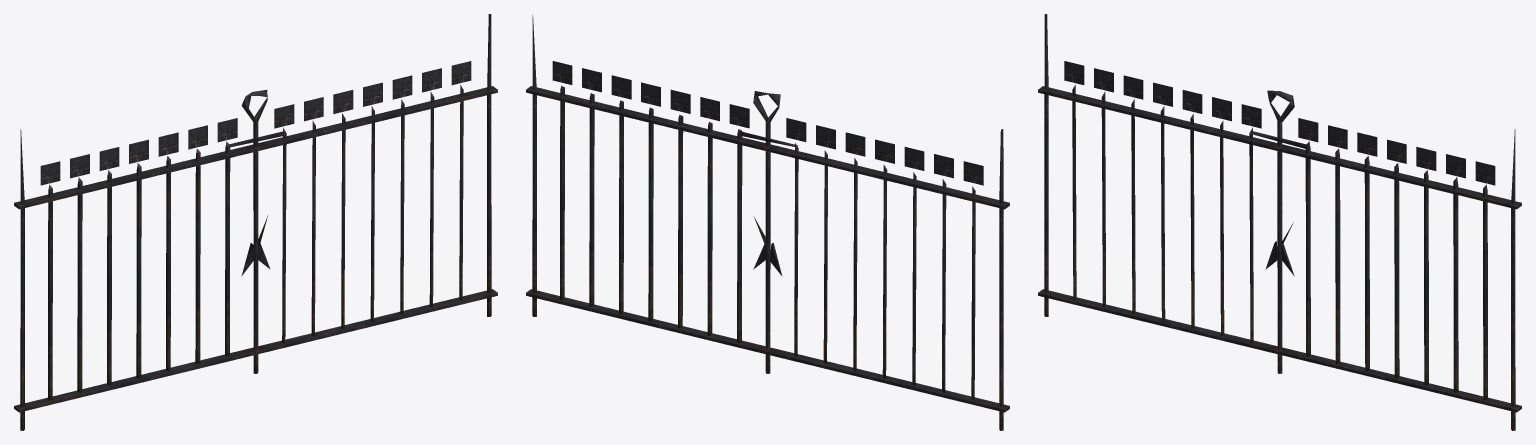
3 renders of one model, left to right at view 1: azimuth 30°, elevation 25°; view 2: azimuth 150°, elevation 25°; view 3: azimuth 330°, elevation 25°, orthographic.
Parts seen in each view (by area): view 1: LV_Navarra_Object_GardenDeco01_SM_NWCNIK_Lod1; view 2: LV_Navarra_Object_GardenDeco01_SM_NWCNIK_Lod1; view 3: LV_Navarra_Object_GardenDeco01_SM_NWCNIK_Lod1.
Part boxes in pixels (<box>): LV_Navarra_Object_GardenDeco01_SM_NWCNIK_Lod1: <box>14,14,497,430</box>; LV_Navarra_Object_GardenDeco01_SM_NWCNIK_Lod1: <box>526,15,1009,430</box>; LV_Navarra_Object_GardenDeco01_SM_NWCNIK_Lod1: <box>1038,14,1521,430</box>.
Size of the model in its own units: 1.01 by 0.6105 by 0.0186.
